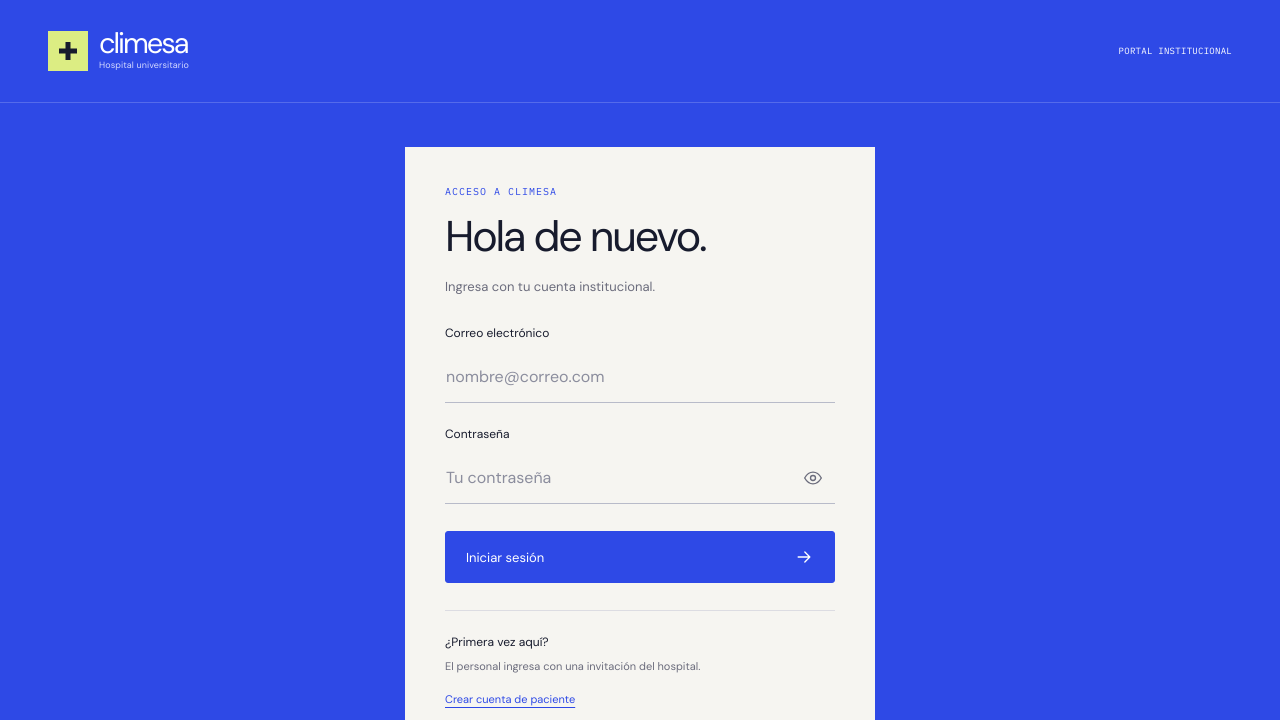
Test: ingreso › con credenciales incorrectas muestra el error y no entra al portal
The width and height of the screenshot is (1280, 720).
Type "  prueba@example.test " into the field labelled "Correo electrónico" at (640, 377), box x1=445 y1=351 x2=835 y2=403
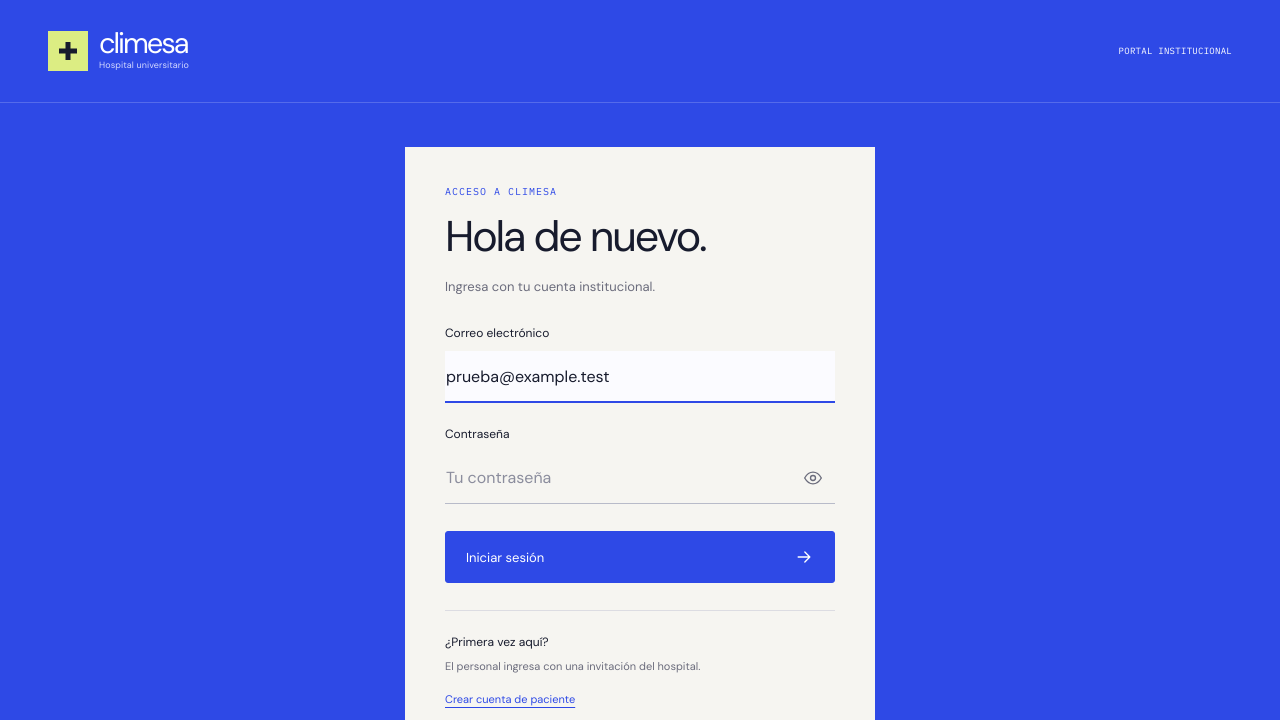
Type "incorrecta" into the password field labelled "Contraseña" at (640, 478), box x1=445 y1=452 x2=835 y2=504
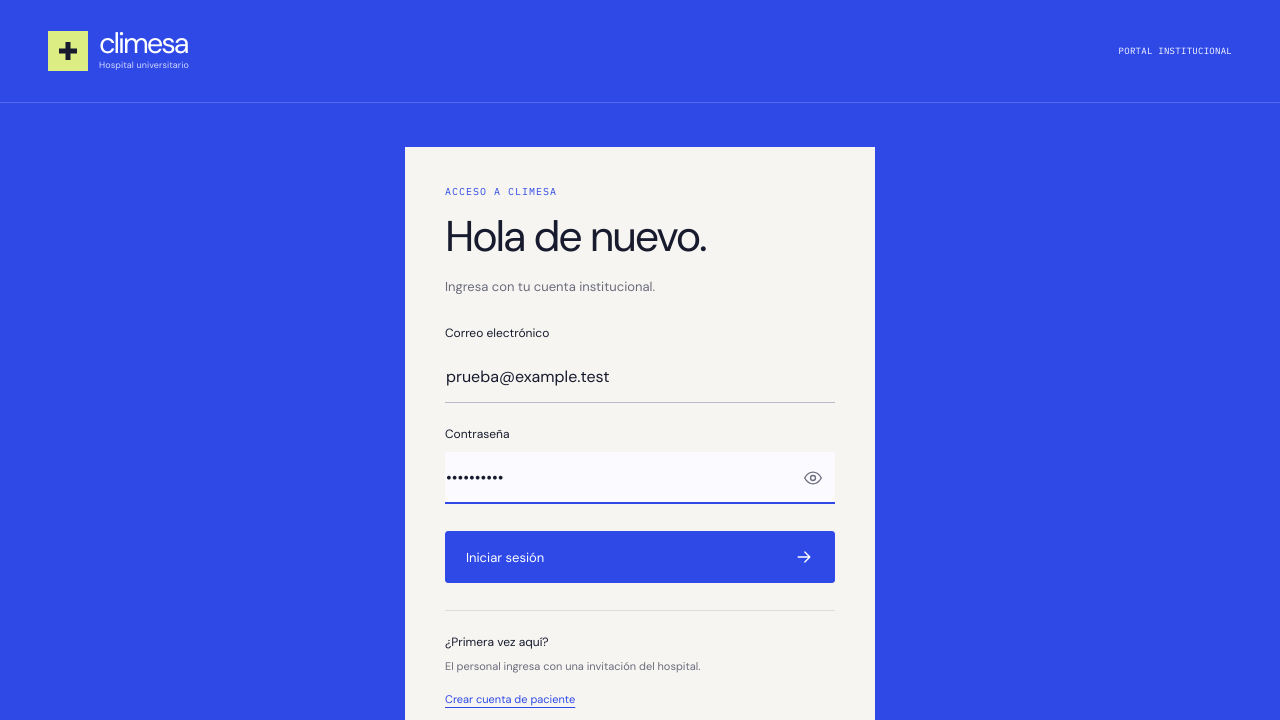
Click the button "Iniciar sesión" at (505, 557), box x1=445 y1=531 x2=835 y2=583
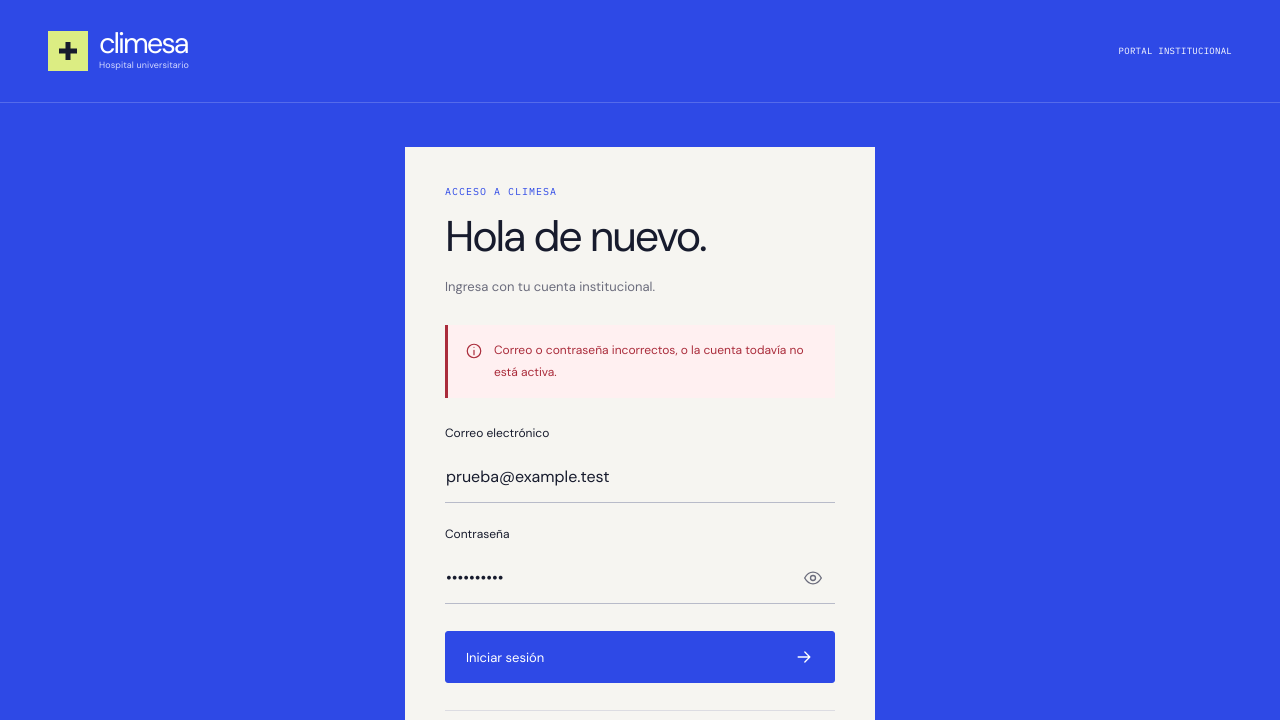
Expected: the text "Correo o contraseña incorrectos" is shown, x1=494 y1=342 x2=804 y2=380
